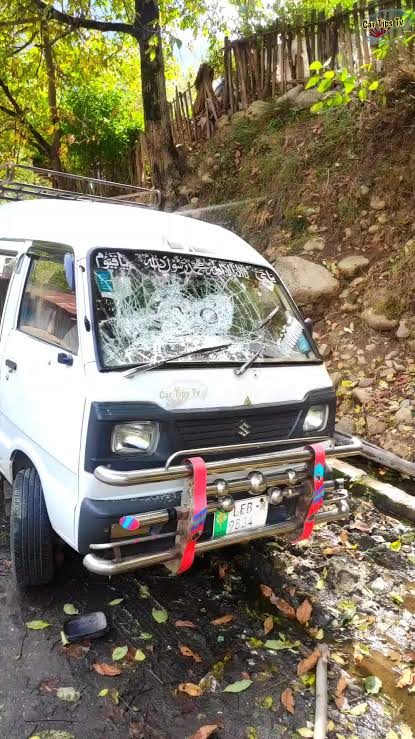Front-windscreen-damage: (81, 246, 312, 375)
